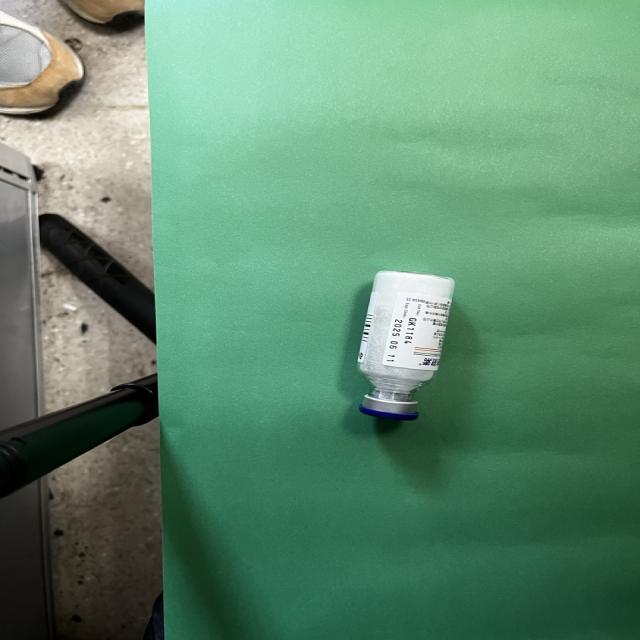Vials: (357, 271, 455, 423)
